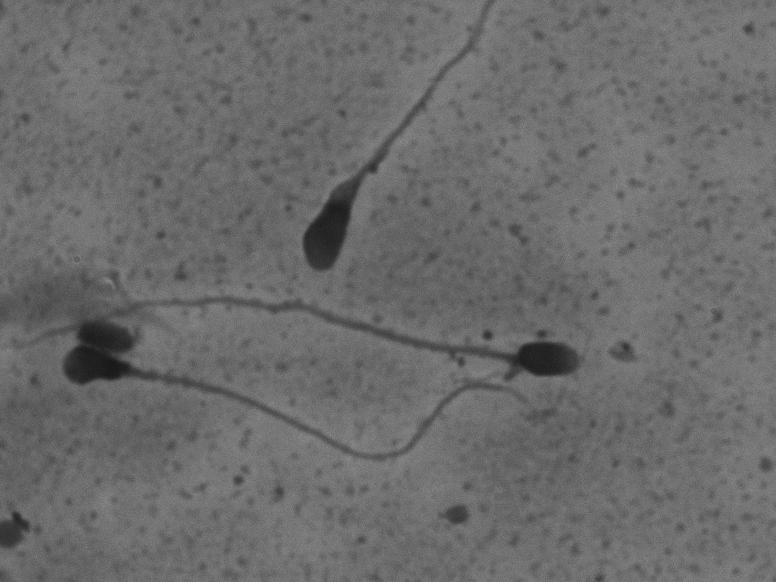Abnormal: (43, 339, 540, 489), (275, 5, 538, 278)
Normal: (9, 289, 599, 383)
